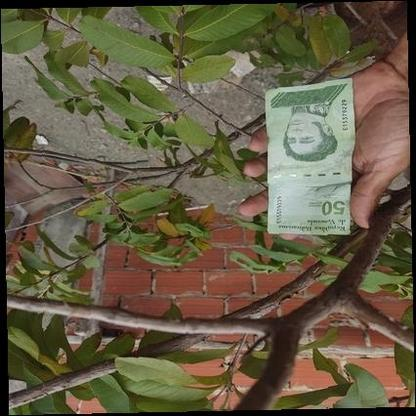vef_front: (266, 78, 354, 235)
